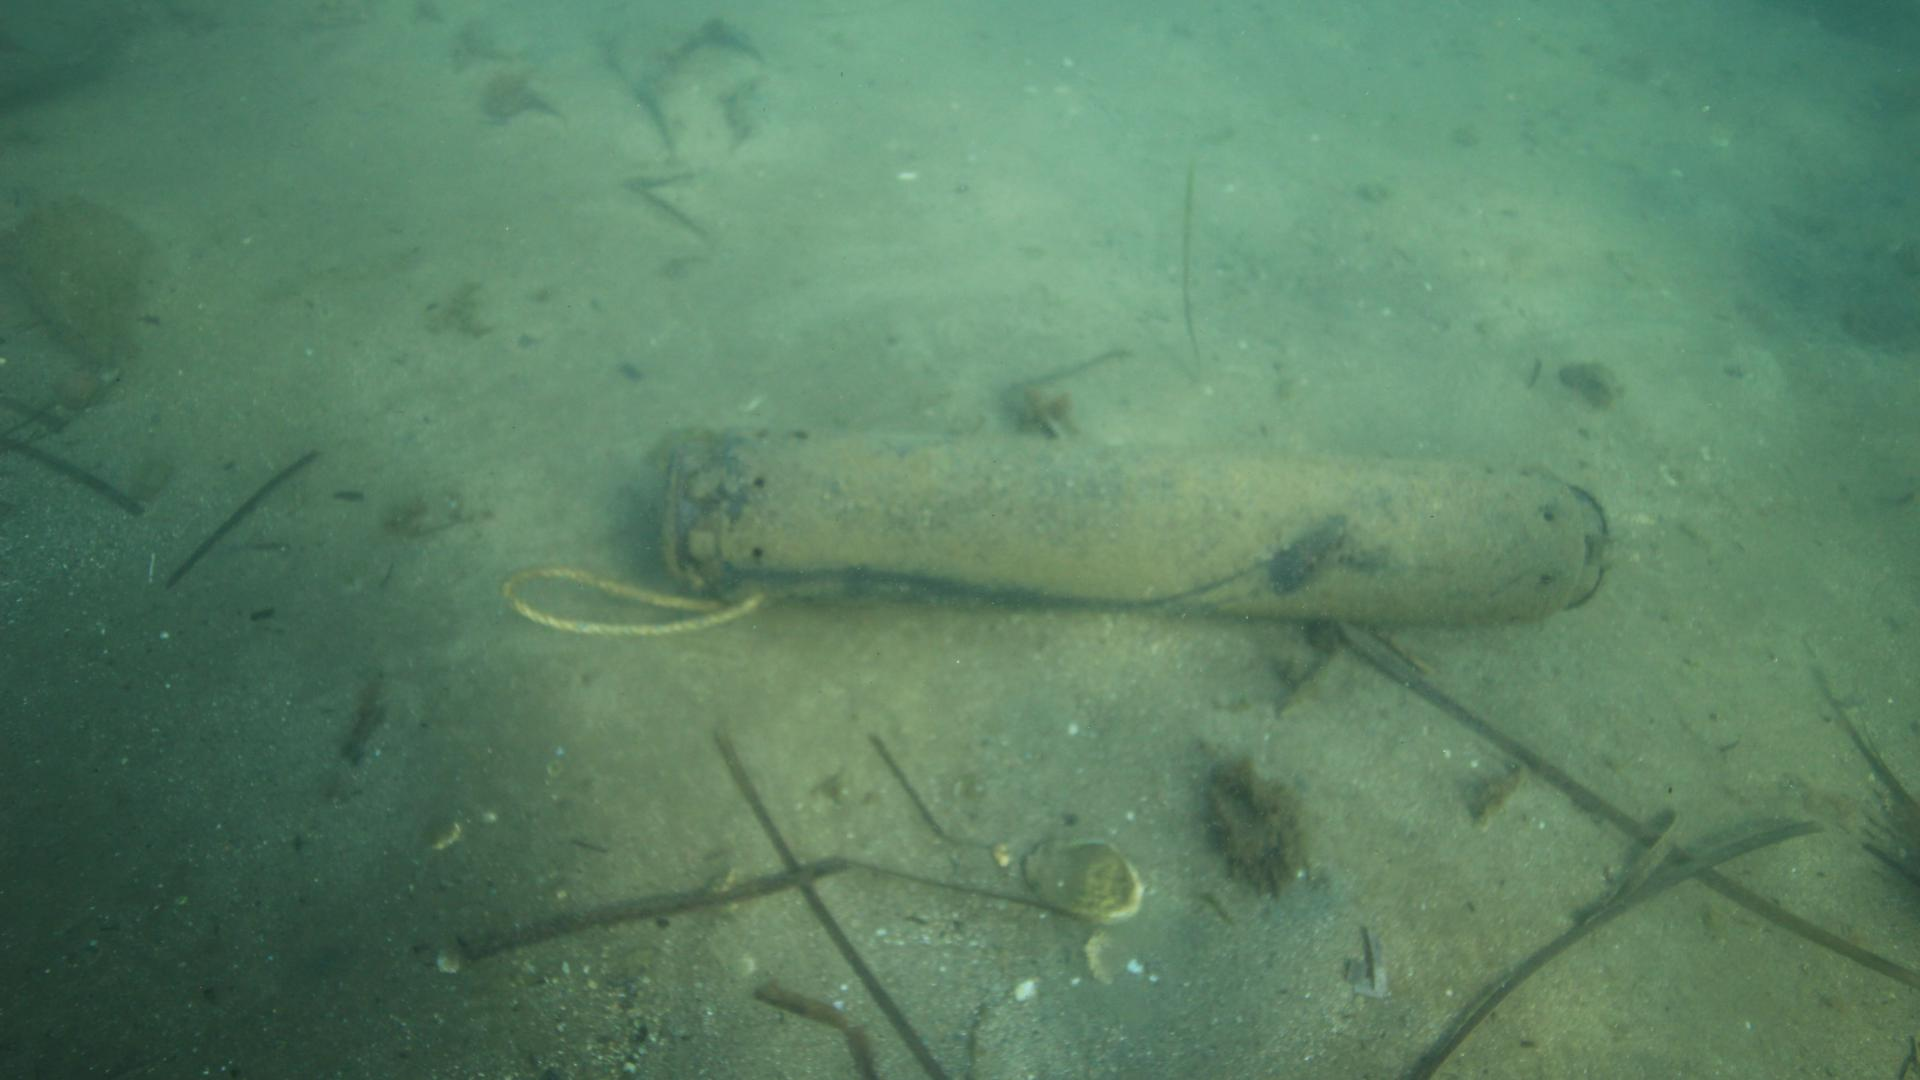bundle of ropes: (498, 562, 761, 636)
eel fish trap: (659, 417, 1619, 620)
